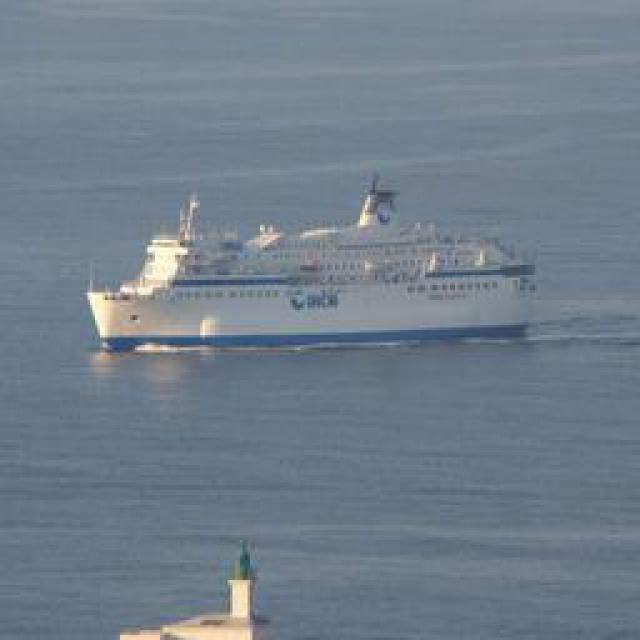Ship: (87, 169, 537, 352)
